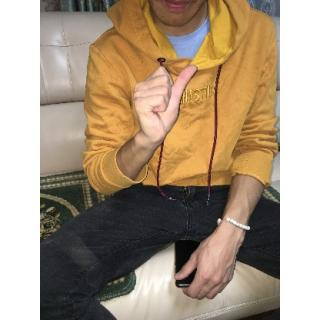WAW: (127, 61, 198, 152)
